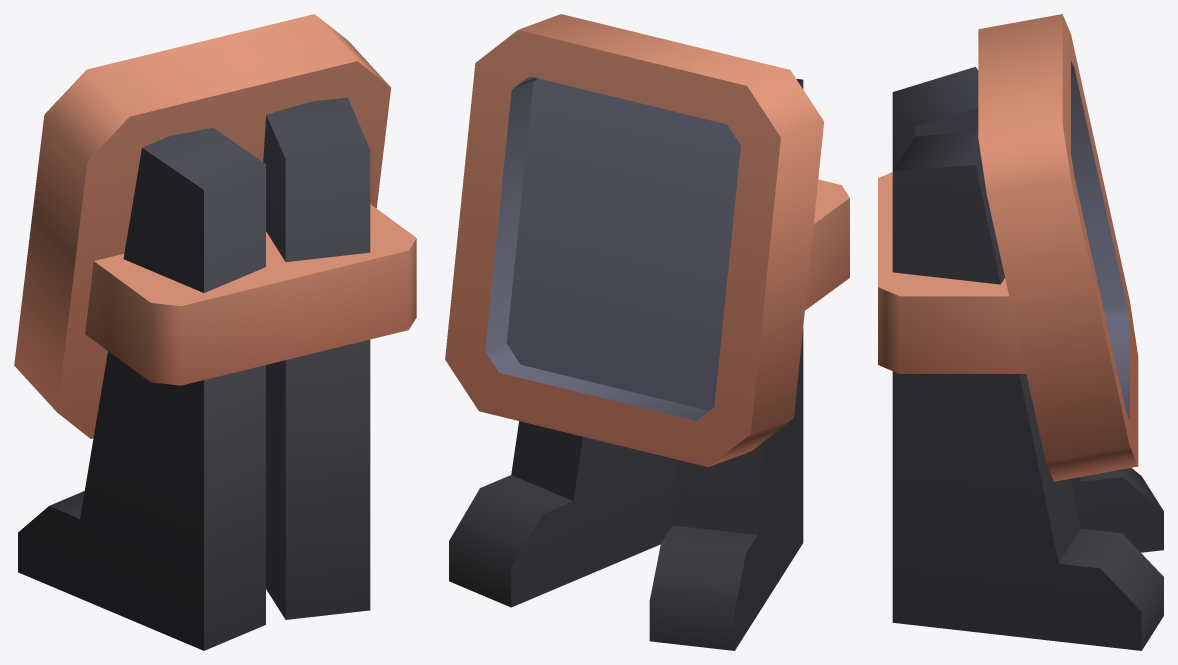
Rendered from screen-small.obj.
The picture shows the model from 3 angles, left to right: view 1: azimuth 30°, elevation 25°; view 2: azimuth 150°, elevation 25°; view 3: azimuth 270°, elevation 25°; orthographic projection. The views are drawn at different scales.
Parts seen in each view (by area): view 1: screen-small; view 2: screen-small; view 3: screen-small.
Boxes of the visible parts, box(x1,y1,x2,y2) form: screen-small: box(14, 14, 416, 650); screen-small: box(445, 14, 849, 650); screen-small: box(878, 14, 1163, 650).
Size of the model in its own units: 0.6 by 0.9913 by 0.4992.
